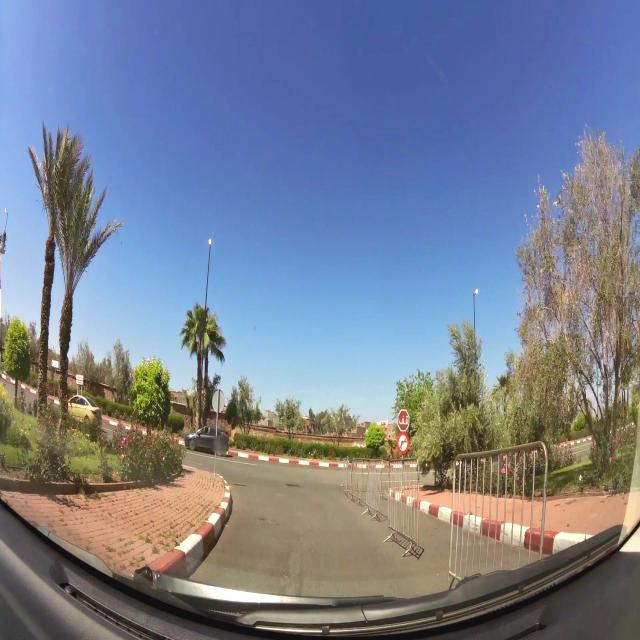car: (185, 426, 229, 454), (67, 393, 101, 424)
